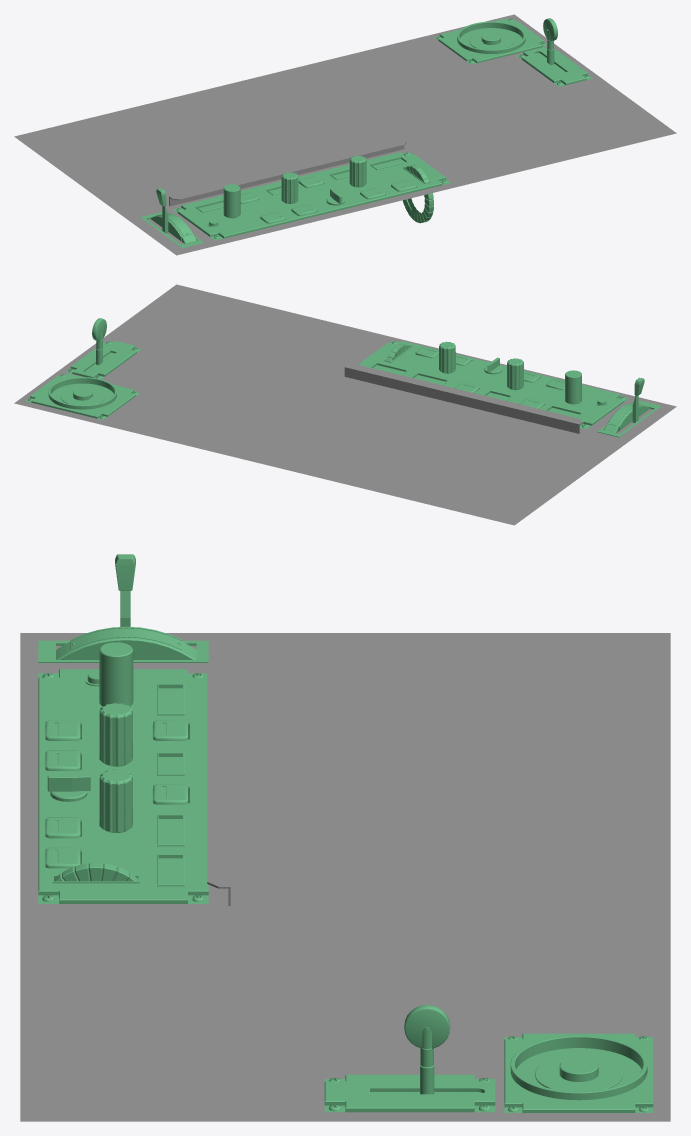
The model's file is plane panel.FBX.
The picture shows the model from 3 angles, top to bottom: view 1: azimuth 30°, elevation 25°; view 2: azimuth 150°, elevation 25°; view 3: azimuth 270°, elevation 25°; orthographic projection. The views are drawn at different scales.
Parts seen in each view (by area): view 1: Plane013, panel006, panel005, panel004, Object003, Cylinder009, Cylinder008, Line005, Line006, Line007, Cylinder010; view 2: Plane013, panel006, panel005, panel004, Object003, Cylinder009, Line005, Line007, Line006, Cylinder010; view 3: Plane013, panel006, panel005, panel004, Object003, Cylinder009, Cylinder010, Line005, Line006, Line007, Cylinder008, Line008 (+1 smaller).
Part boxes in pixels (<box>): Plane013: <box>14,14,676,255</box>; panel006: <box>173,152,450,240</box>; panel005: <box>434,18,547,64</box>; panel004: <box>517,47,592,86</box>; Object003: <box>240,176,416,223</box>; Cylinder009: <box>140,212,203,248</box>; Cylinder008: <box>402,165,433,223</box>; Line005: <box>223,184,240,218</box>; Line006: <box>281,172,298,203</box>; Line007: <box>349,155,366,187</box>; Cylinder010: <box>543,18,557,65</box>; Plane013: <box>14,284,676,525</box>; panel006: <box>358,340,628,429</box>; panel005: <box>25,373,139,419</box>; panel004: <box>66,341,141,379</box>; Object003: <box>415,347,564,408</box>; Cylinder009: <box>598,400,661,437</box>; Line005: <box>565,370,581,404</box>; Line007: <box>439,341,455,373</box>; Line006: <box>507,358,523,390</box>; Cylinder010: <box>92,318,106,365</box>; Plane013: <box>20,633,670,1121</box>; panel006: <box>38,669,208,903</box>; panel005: <box>504,1033,653,1112</box>; panel004: <box>324,1074,495,1112</box>; Object003: <box>45,720,188,868</box>; Cylinder009: <box>38,626,208,662</box>; Cylinder010: <box>404,1005,450,1094</box>; Line005: <box>99,642,133,706</box>; Line006: <box>99,703,132,766</box>; Line007: <box>99,769,132,832</box>; Cylinder008: <box>54,862,138,881</box>; Line008: <box>115,554,135,626</box>.
Bounding box in the file's own units: 3048 × 511 × 1714.
